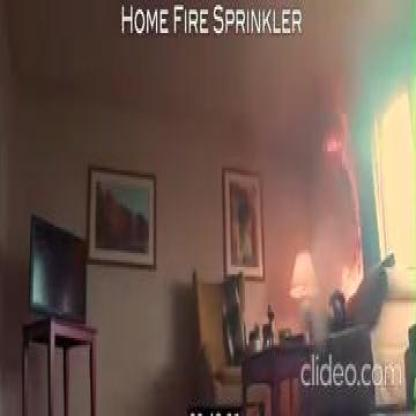fire: (324, 104, 360, 232), (339, 241, 365, 305)
